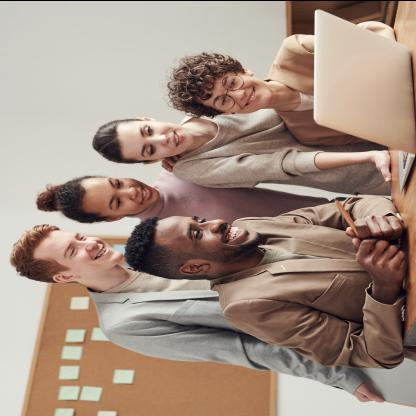Eye: (192, 227, 206, 239), (143, 124, 156, 136), (144, 144, 158, 154), (112, 196, 123, 208), (68, 246, 79, 257), (112, 178, 122, 190), (76, 232, 88, 242), (196, 216, 210, 224), (228, 77, 238, 88), (219, 94, 228, 106)
Mouth: (226, 223, 246, 244), (137, 184, 153, 204), (170, 129, 186, 147), (244, 88, 260, 106), (92, 244, 110, 260)
Nose: (200, 217, 225, 232), (118, 186, 140, 200), (79, 239, 99, 251), (227, 88, 246, 100), (150, 134, 171, 144)
